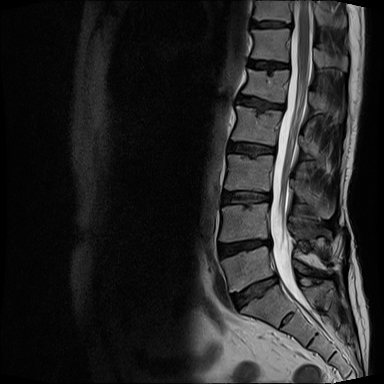Lumbar Disc Bulge (LDB): (225, 272, 282, 313), (212, 231, 277, 264)
Normal IVD: (219, 134, 280, 160), (231, 89, 290, 115), (216, 183, 274, 208), (243, 54, 291, 73)
Spinal Stenosis (SS): (260, 231, 276, 254), (285, 16, 297, 31)
Thoracic Disc Bulge (TDB): (245, 20, 294, 33)
